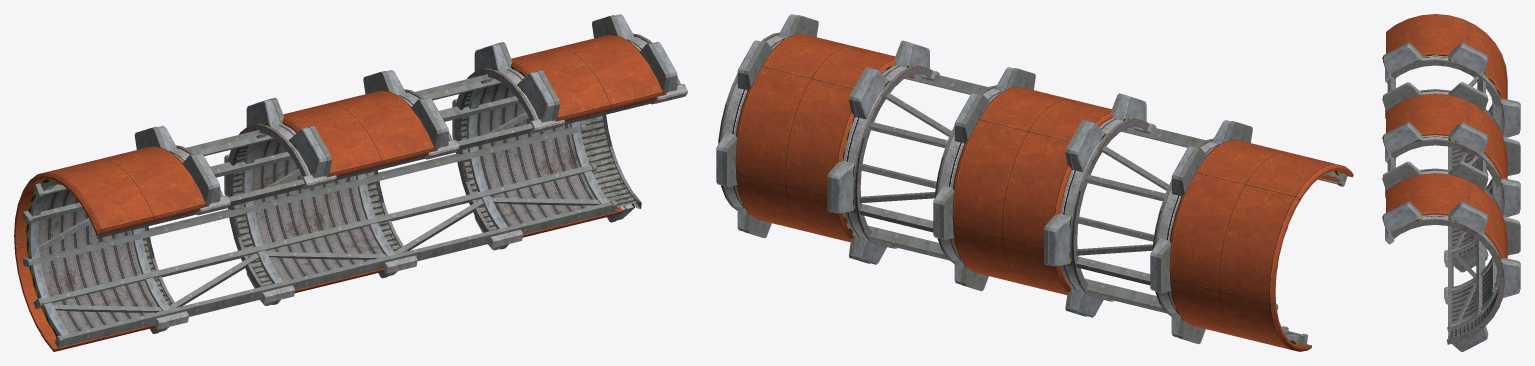
The model's file is Ob_StationWall_RC.fbx.
The picture shows the model from 3 angles, left to right: view 1: azimuth 30°, elevation 25°; view 2: azimuth 150°, elevation 25°; view 3: azimuth 270°, elevation 25°; orthographic projection. The views are drawn at different scales.
Parts seen in each view (by area): view 1: Ob_StationWall_RC; view 2: Ob_StationWall_RC; view 3: Ob_StationWall_RC.
Part boxes in pixels (left/top/right/bottom): Ob_StationWall_RC: left=14, top=14, right=687, bottom=351; Ob_StationWall_RC: left=716, top=14, right=1353, bottom=351; Ob_StationWall_RC: left=1382, top=14, right=1520, bottom=351.
Bounding box in the file's own units: 8407 × 2803 × 2389.
